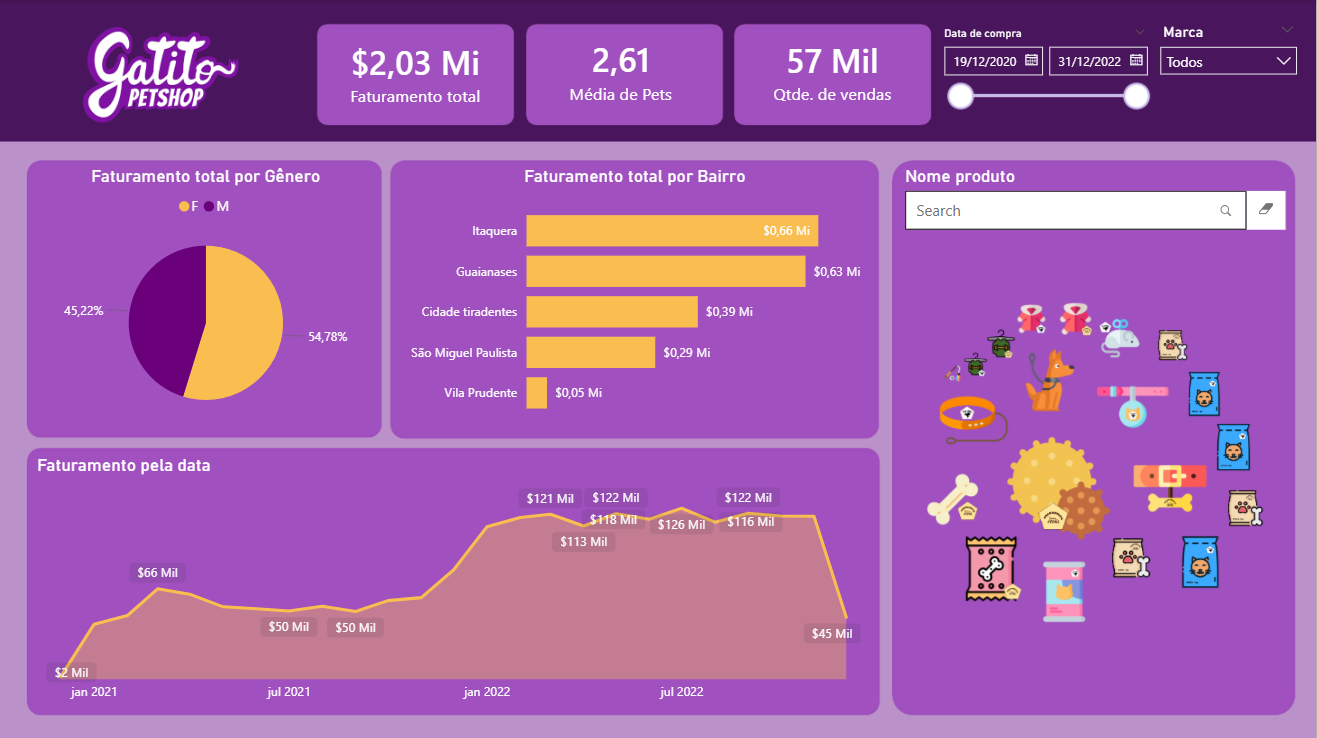

What the dashboard file says about the page in this screenshot:
{"tool":"powerbi","page":{"name":"Visão Geral do Petshop","canvas":[1280,720],"ordinal":0},"visuals":[{"type":"cardVisual","fields":{"Data":["Vendas.Faturamento total"]},"box":[305.4,17.5,197.4,107],"z":0},{"type":"cardVisual","fields":{"Data":["Avg(Clientes.Pets)"]},"box":[503.2,5.3,202.1,126.6],"z":1000},{"type":"cardVisual","fields":{"Data":["Sum(Vendas.Quantidade)"]},"box":[705.3,13.8,209.6,110.6],"z":2000},{"type":"slicer","fields":{"Values":["Vendas.Data de compra"]},"box":[905.2,21.6,220.6,93.8],"z":3000},{"type":"slicer","fields":{"Values":["Produtos.Marca"]},"box":[1118.6,17.5,152.6,79.4],"z":4000},{"type":"pieChart","fields":{"Category":["Clientes.Gênero"],"Y":["Vendas.Faturamento total"]},"box":[30.9,161.7,338.3,257.4],"z":5000},{"type":"clusteredBarChart","fields":{"Category":["Clientes.Bairro"],"Y":["Vendas.Faturamento total"]},"box":[386.1,161.5,463,257.8],"z":6000},{"type":"areaChart","title":"Faturamento pela data","fields":{"Category":["Vendas.Data de compra.Variation.Hierarquia de datas.Ano","Vendas.Data de compra.Variation.Hierarquia de datas.Trimestre","Vendas.Data de compra.Variation.Hierarquia de datas.Mês","Vendas.Data de compra.Variation.Hierarquia de datas.Dia"],"Y":["Vendas.Faturamento total"]},"box":[31.1,442.6,818,248],"z":7000},{"type":"ImageGrid_FC5183B9_926C_45E0_B5F7_0CE9EAF1DA9B","fields":{"ImageURL":["Produtos.Url img"]},"box":[875.4,209.1,380.3,481.5],"z":8000},{"type":"textFilter25A4896A83E0487089E2B90C9AE57C8A","fields":{"field":["Produtos.Nome produto"]},"box":[875.4,161.5,380.3,73.9],"z":9000}]}

Visuals, with their boxes in screenshot pixels (x1, y1, x2, y2), scaled from the page's 1280x720 canvas onto the 1317x738 screenshot:
cardVisual - Vendas.Faturamento total: 314 18 517 128
cardVisual - Avg(Clientes.Pets): 518 5 726 135
cardVisual - Sum(Vendas.Quantidade): 726 14 941 128
slicer - Vendas.Data de compra: 931 22 1158 118
slicer - Produtos.Marca: 1151 18 1308 99
pieChart - Clientes.Gênero x Vendas.Faturamento total: 32 166 380 430
clusteredBarChart - Clientes.Bairro x Vendas.Faturamento total: 397 166 874 430
"Faturamento pela data" areaChart: 32 454 874 708
ImageGrid_FC5183B9_926C_45E0_B5F7_0CE9EAF1DA9B - Produtos.Url img: 901 214 1292 708
textFilter25A4896A83E0487089E2B90C9AE57C8A - Produtos.Nome produto: 901 166 1292 241
